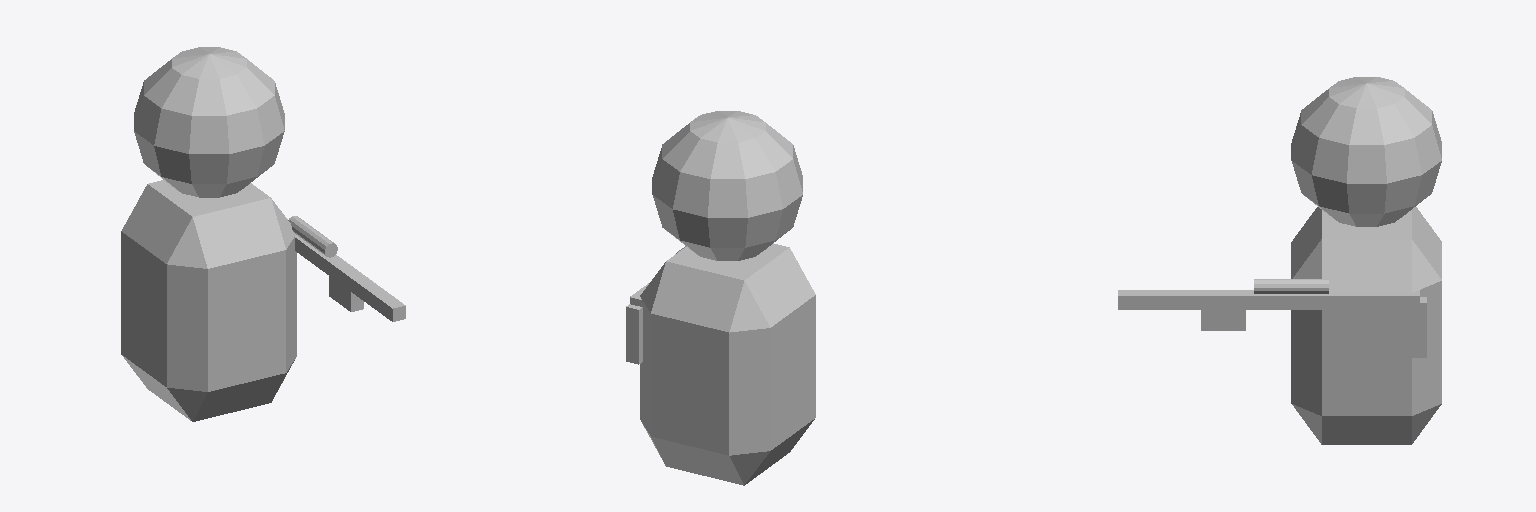
File: sniper.obj
The picture shows the model from 3 angles: view 1: azimuth 30°, elevation 25°; view 2: azimuth 150°, elevation 25°; view 3: azimuth 270°, elevation 25°; orthographic projection.
Parts seen in each view (by area): view 1: beveled_cuboid, cuboid, cylinder; view 2: beveled_cuboid, cuboid; view 3: beveled_cuboid, cuboid, cylinder.
Part boxes in pixels (bbox=[...]): beveled_cuboid: bbox=[121, 47, 296, 421]; cuboid: bbox=[295, 235, 405, 321]; cylinder: bbox=[288, 216, 337, 257]; beveled_cuboid: bbox=[640, 111, 815, 485]; cuboid: bbox=[626, 283, 648, 364]; beveled_cuboid: bbox=[1291, 77, 1441, 444]; cuboid: bbox=[1118, 290, 1426, 357]; cylinder: bbox=[1254, 279, 1328, 293].
Size of the model in its own units: 0.0656 by 0.1562 by 0.1344.